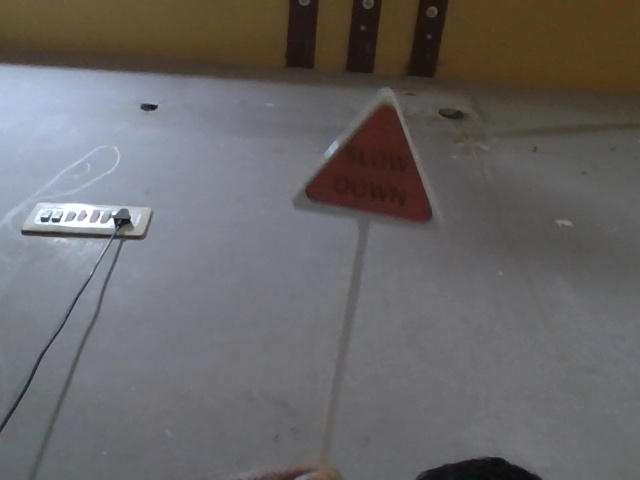slowdown: (293, 74, 436, 227)
